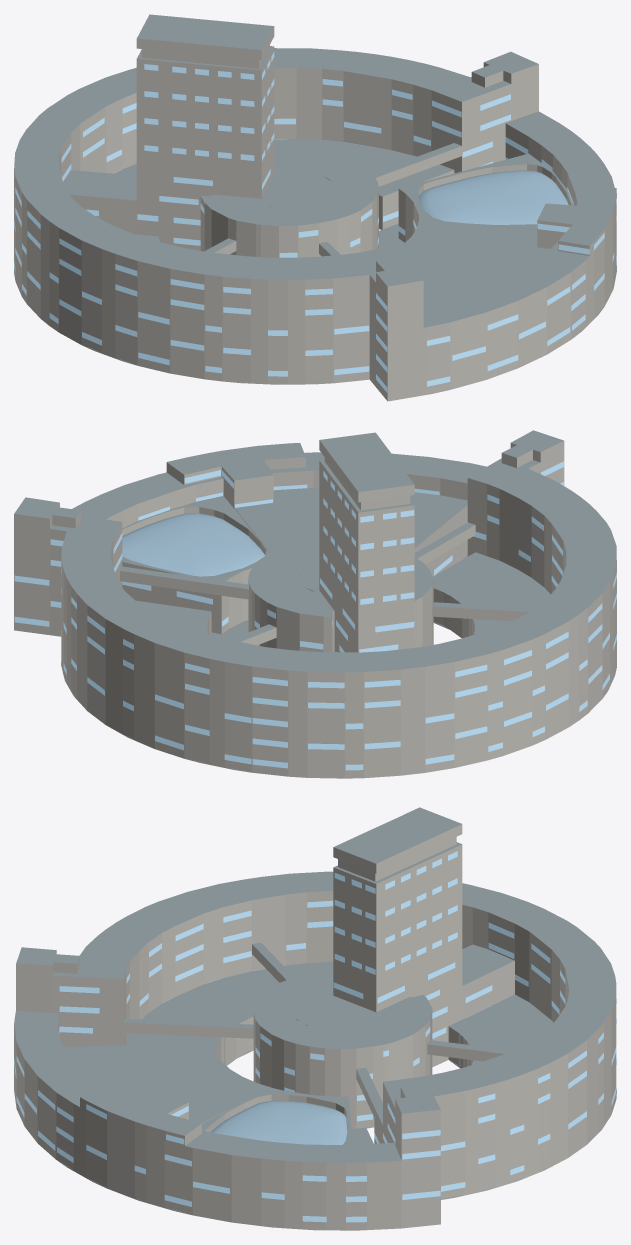
3 views of the same model, one above another, from view 1: azimuth 30°, elevation 25°; view 2: azimuth 150°, elevation 25°; view 3: azimuth 270°, elevation 25° (orthographic).
Parts seen in each view (by area): view 1: stone, window, metal; view 2: stone, window, metal; view 3: stone, window, metal.
Part boxes in pixels (left/top/right/bottom): stone: left=14, top=14, right=616, bottom=401; window: left=14, top=52, right=616, bottom=392; metal: left=419, top=170, right=568, bottom=224; stone: left=14, top=430, right=616, bottom=778; window: left=14, top=461, right=616, bottom=770; metal: left=122, top=513, right=264, bottom=576; stone: left=14, top=807, right=616, bottom=1230; window: left=14, top=851, right=616, bottom=1222; metal: left=210, top=1100, right=347, bottom=1144.
Bounding box in the file's own units: 162 × 68 × 162.
